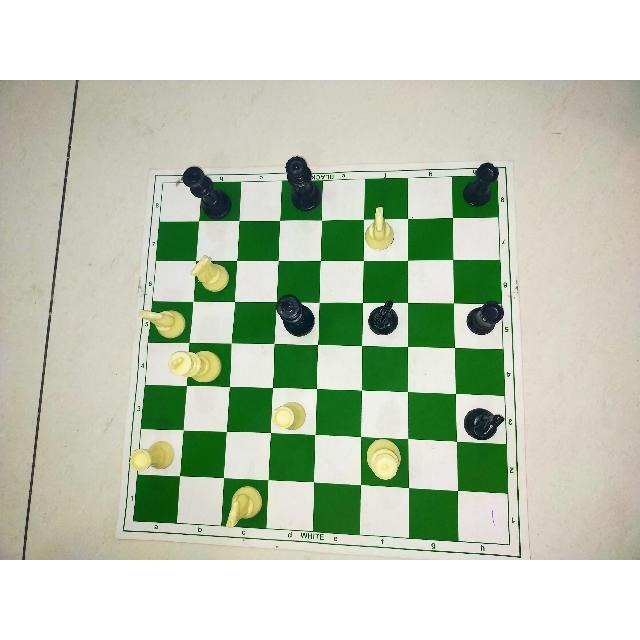black-king: (176, 156, 234, 228), (273, 289, 315, 340)
black-knight: (458, 402, 506, 448), (364, 297, 404, 345)
black-queen: (282, 148, 326, 220)
black-rook: (451, 156, 505, 216), (464, 299, 504, 341)
white-king: (161, 346, 227, 385)
white-knight: (137, 295, 189, 339), (219, 481, 266, 529), (359, 200, 401, 252), (182, 253, 229, 296)
white-queen: (360, 432, 405, 486)
white-rook: (127, 431, 177, 480), (269, 389, 316, 438)
